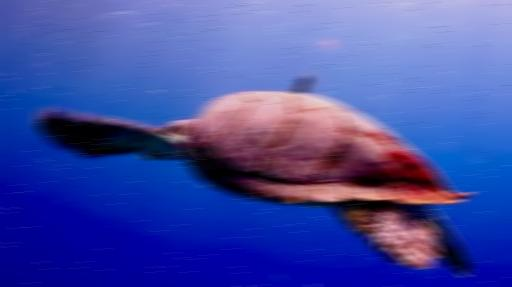Fish: (35, 75, 470, 275)
